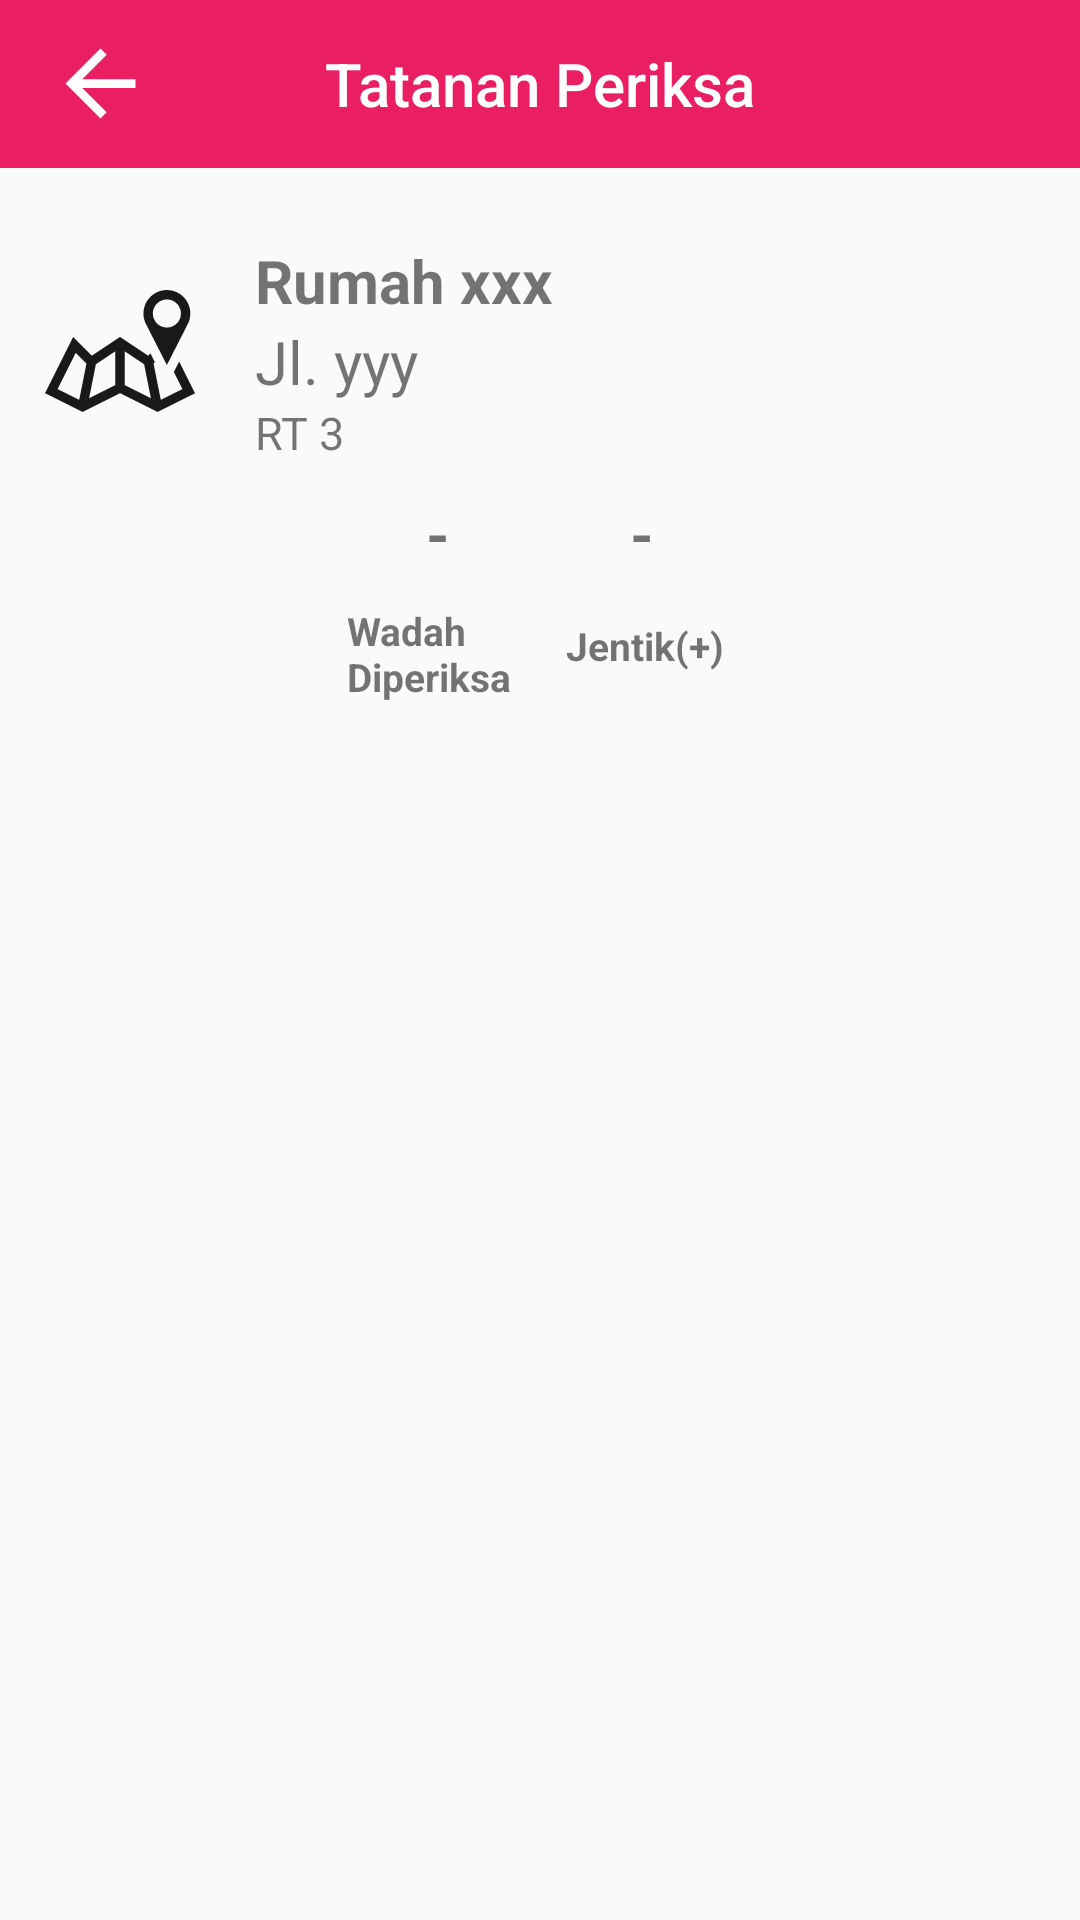

Named icons in this screenshot (1080px×1920px) and their centers, (x,y):
arrow back: (100,83)
